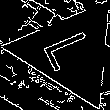L_NE: (38, 28, 102, 77)
